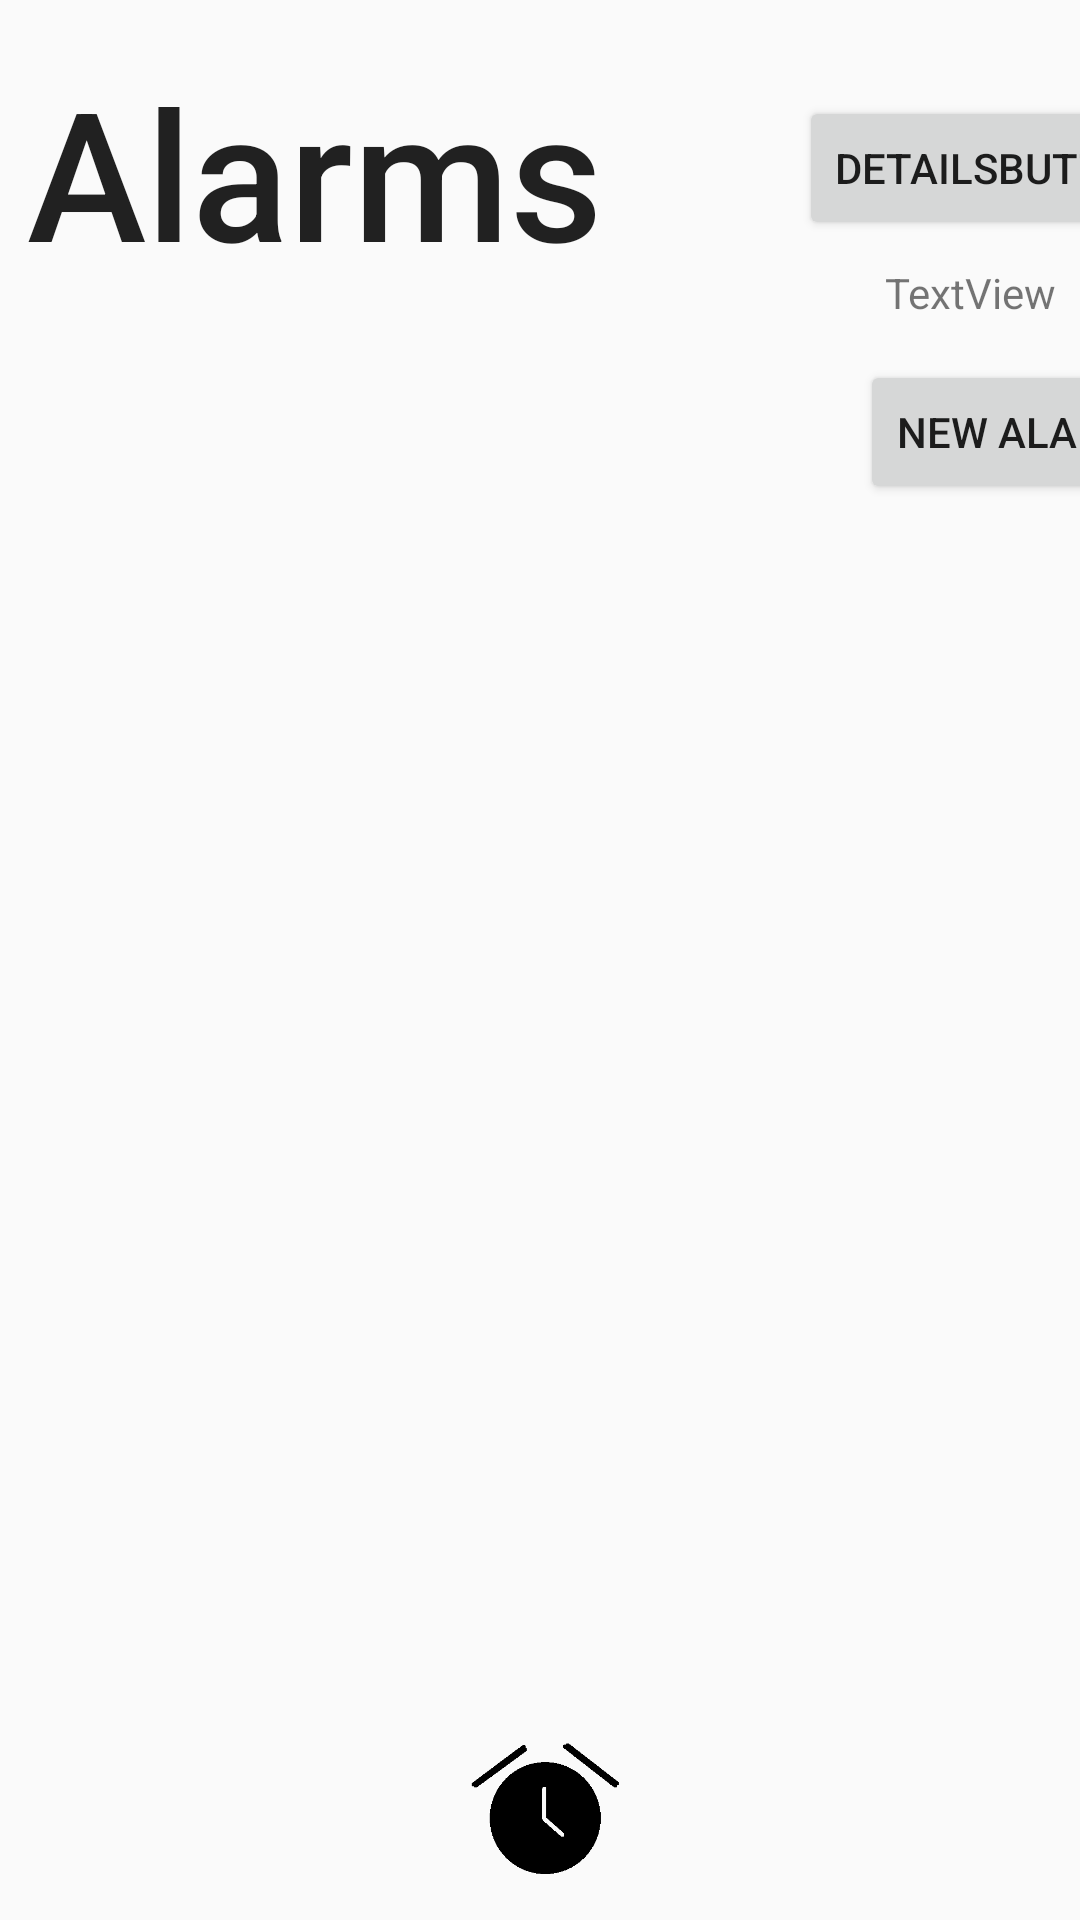

Point at icon controls on the screen. Image size 1080w x 1920h, points as point (x, y).
alarm square: point (545, 1808)
